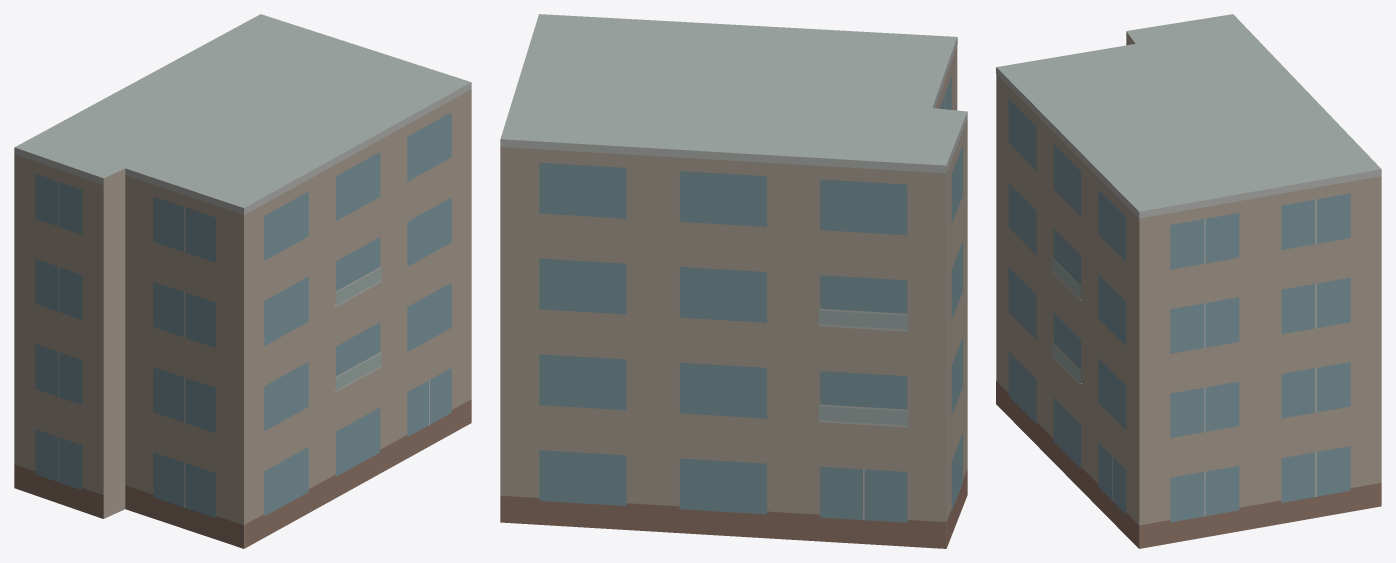
The model's file is survey-upis-32863238.glb.
3 views of the same model, side by side, from view 1: azimuth 30°, elevation 25°; view 2: azimuth 150°, elevation 25°; view 3: azimuth 270°, elevation 25° (orthographic). The views are drawn at different scales.
Visible parts, largest first — view 1: survey-upis-32863238.tmp; view 2: survey-upis-32863238.tmp; view 3: survey-upis-32863238.tmp.
Part boxes in pixels (box(x1,y1,x2,y2)): survey-upis-32863238.tmp: box(14, 14, 471, 548); survey-upis-32863238.tmp: box(500, 14, 967, 548); survey-upis-32863238.tmp: box(996, 14, 1381, 548).
Size of the model in its own units: 15.11 by 12 by 12.45.
